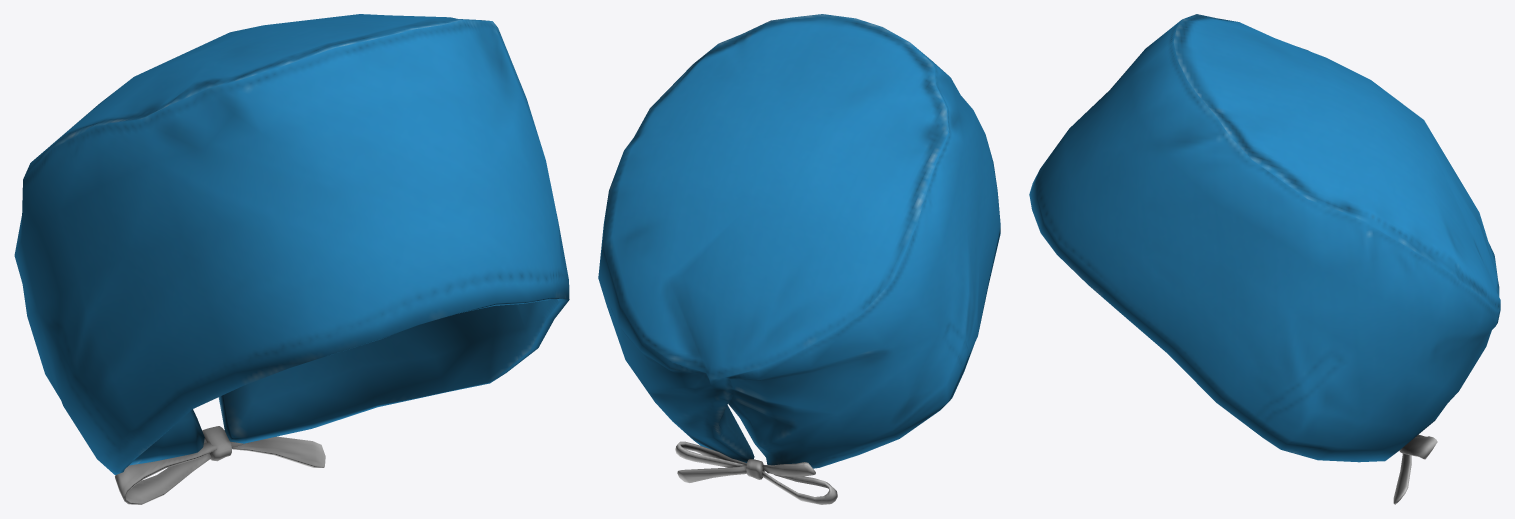
Rendered from Hats.fbx.
3 renders of one model, left to right at view 1: azimuth 30°, elevation 25°; view 2: azimuth 150°, elevation 25°; view 3: azimuth 270°, elevation 25°, orthographic. The views are drawn at different scales.
Visible parts, largest first — view 1: Hats; view 2: Hats; view 3: Hats.
Part boxes in pixels (box(x1,y1,x2,y2)): Hats: box(14, 14, 569, 504); Hats: box(598, 14, 1000, 504); Hats: box(1029, 14, 1500, 504).
Bounding box in the file's own units: 1898 × 2248 × 2244.
